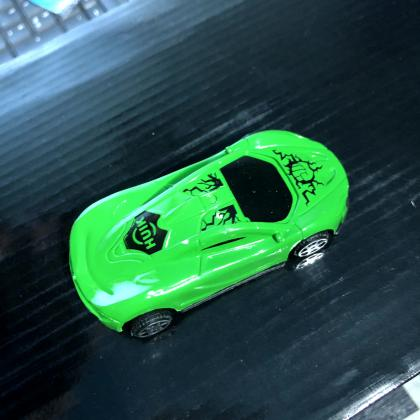Car: (67, 130, 350, 342)
